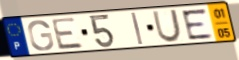5: (87, 13, 116, 49)
E: (50, 16, 86, 51), (180, 7, 216, 42)
G: (26, 19, 55, 52)
I: (130, 11, 145, 46)
U: (151, 9, 184, 44)
